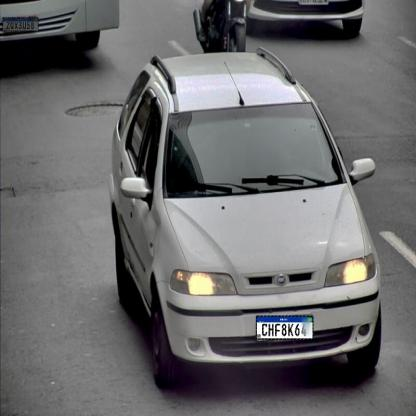PlacaM: (256, 315, 313, 340), (2, 18, 38, 31)
